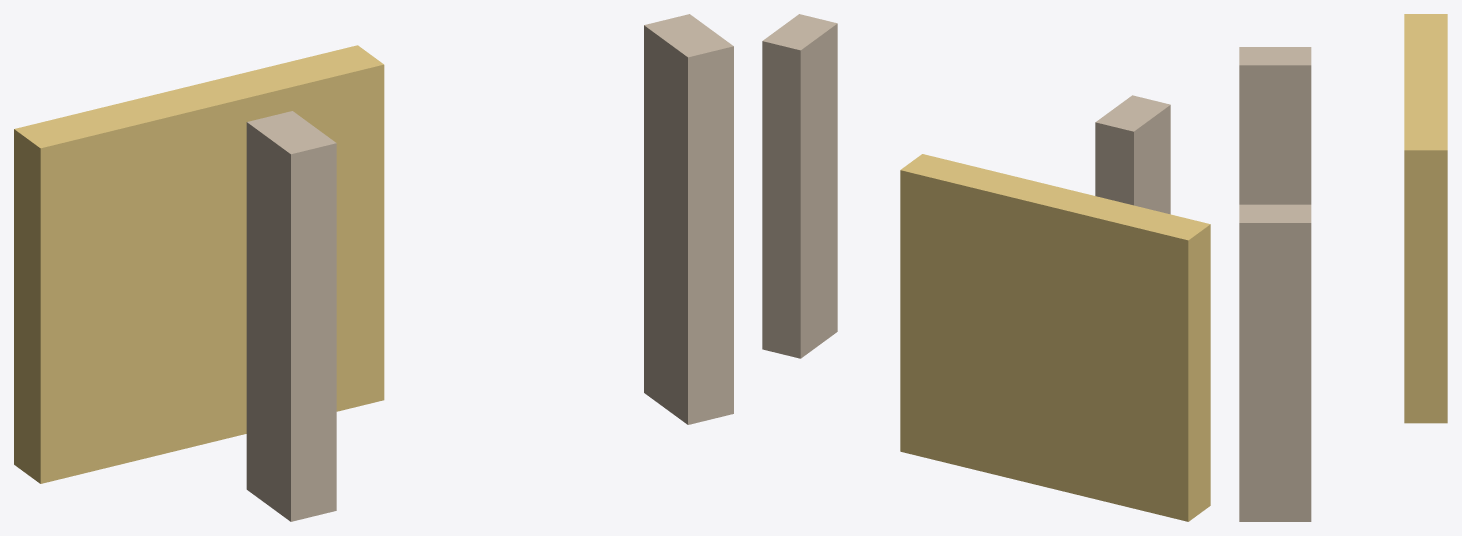
Rendered from Door_Open_Path.glb.
3 renders of one model, left to right at view 1: azimuth 30°, elevation 25°; view 2: azimuth 150°, elevation 25°; view 3: azimuth 270°, elevation 25°, orthographic. The views are drawn at different scales.
Parts seen in each view (by area): view 1: gate_2, rail_0, rail_1; view 2: gate_2, rail_1, rail_0; view 3: rail_1, gate_2, rail_0.
Part boxes in pixels (bbox=[...]): gate_2: bbox=[14, 45, 384, 483]; rail_0: bbox=[246, 111, 336, 521]; rail_1: bbox=[644, 14, 733, 424]; gate_2: bbox=[900, 154, 1210, 521]; rail_1: bbox=[762, 14, 837, 358]; rail_0: bbox=[1095, 95, 1170, 214]; rail_1: bbox=[1239, 204, 1311, 521]; gate_2: bbox=[1404, 14, 1447, 423]; rail_0: bbox=[1239, 47, 1311, 204].
Size of the model in its own units: 1.55 by 0.92 by 0.58.
